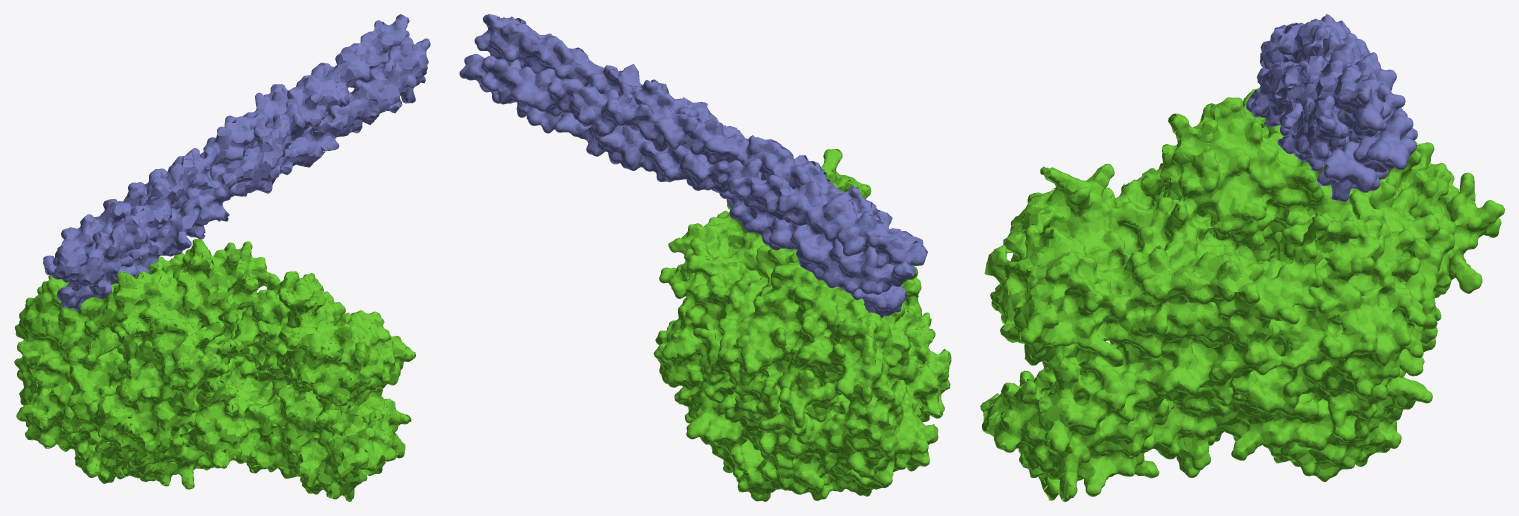
Rendered from POL.glb.
3 views of the same model, side by side, from view 1: azimuth 30°, elevation 25°; view 2: azimuth 150°, elevation 25°; view 3: azimuth 270°, elevation 25° (orthographic). The views are drawn at different scales.
Visible parts, largest first — view 1: Shape_IndexedFaceSet; view 2: Shape_IndexedFaceSet; view 3: Shape_IndexedFaceSet.
Boxes of the visible parts, bbox=[...] form: Shape_IndexedFaceSet: bbox=[14, 14, 430, 501]; Shape_IndexedFaceSet: bbox=[459, 14, 951, 501]; Shape_IndexedFaceSet: bbox=[980, 14, 1504, 501].
Bounding box in the file's own units: 7.32 × 6.6 × 5.67.
